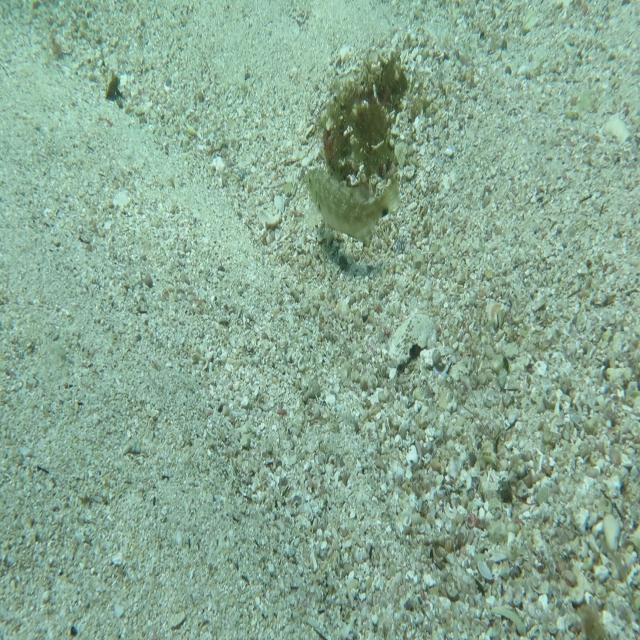AM: (303, 161, 402, 251)
core_nest: (369, 69, 400, 107)
nest: (313, 44, 412, 188)
vegetation: (104, 68, 122, 105)
